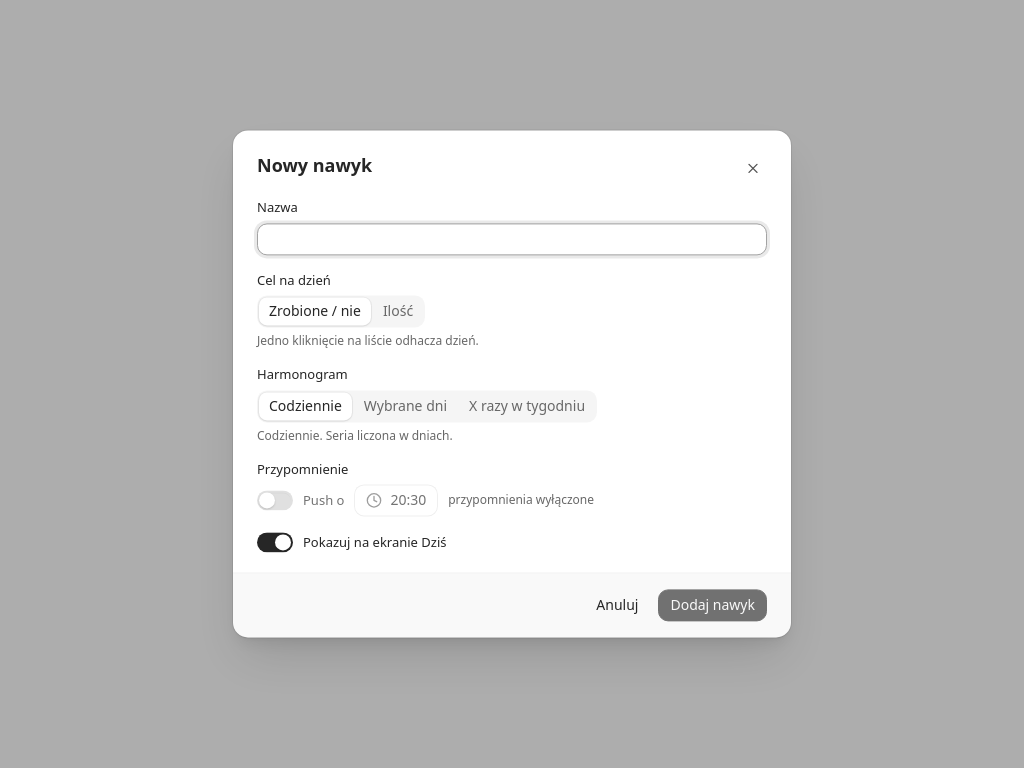
Test: HabitDialog › przypomnienie: wyłączony przełącznik blokuje wybór godziny
Expected: the button named "Godzina przypomnienia" is disabled, 354,485 -> 438,517
Click the switch named "Przypomnienie push": {"x": 275, "y": 501} 257,491 -> 293,511
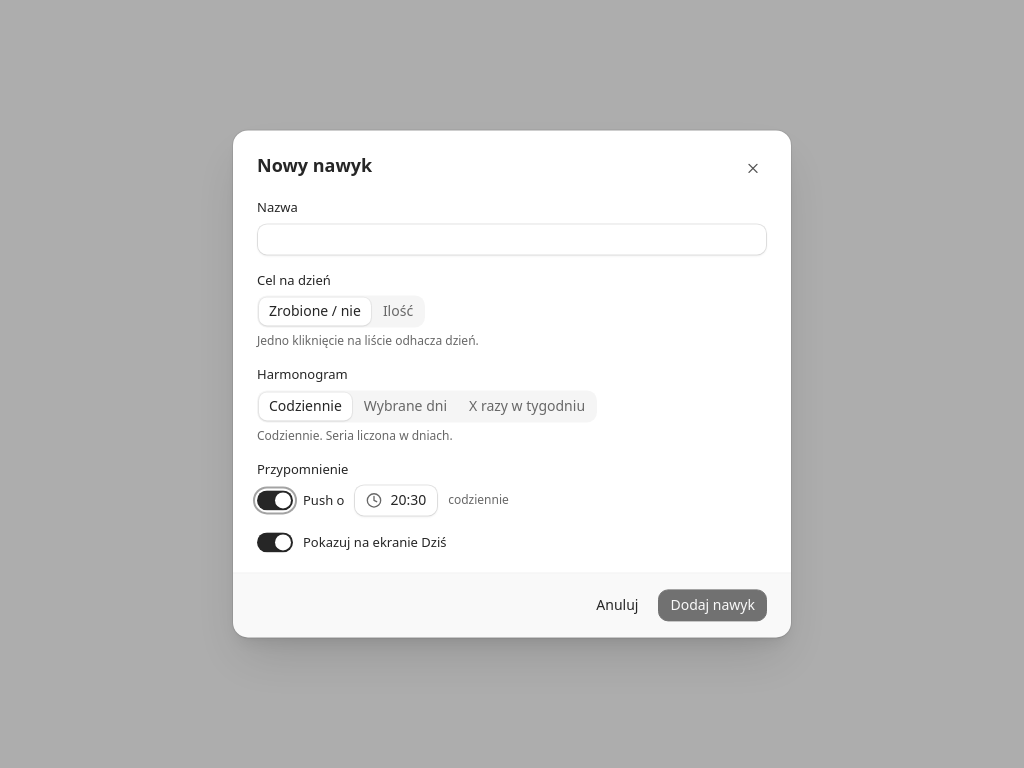
Expected: the button named "Godzina przypomnienia" is enabled, 354,485 -> 438,517
